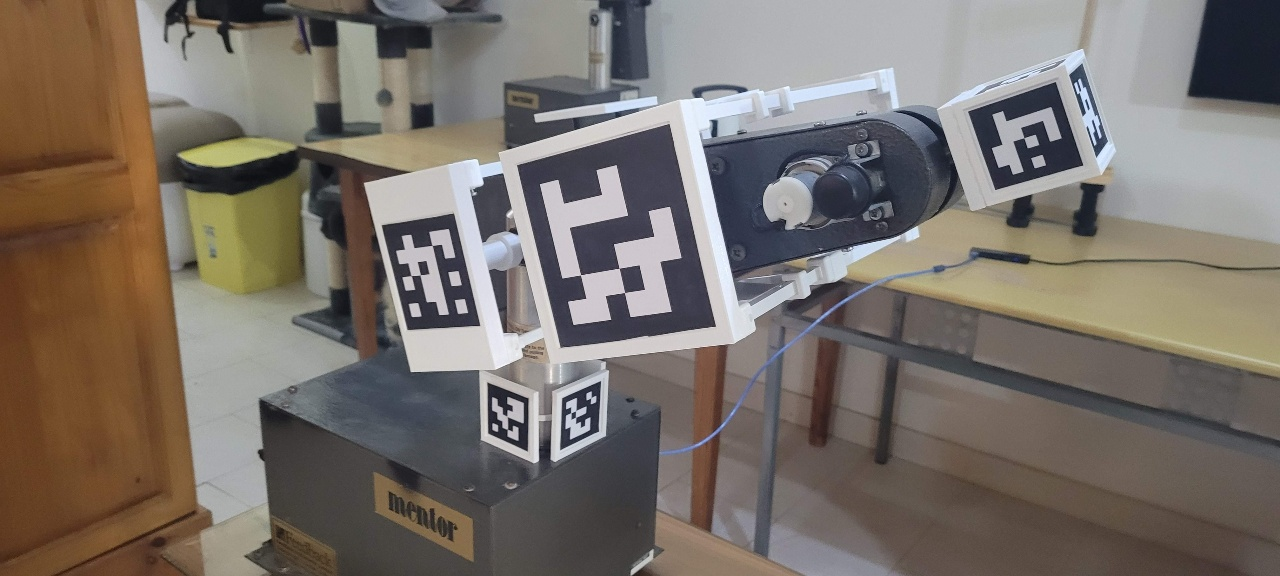Robot: (361, 46, 1119, 465)
